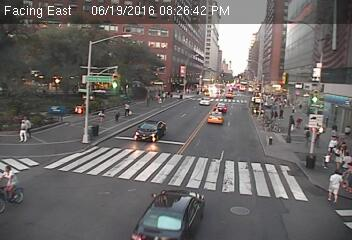neg: (242, 128, 261, 154), (68, 43, 80, 60), (274, 39, 285, 54), (266, 168, 277, 183), (214, 159, 224, 173), (241, 90, 251, 103), (232, 39, 241, 52), (266, 69, 275, 82), (309, 40, 318, 52), (180, 122, 188, 133), (153, 194, 161, 204), (183, 53, 191, 63), (139, 44, 147, 54), (143, 130, 150, 139), (96, 38, 103, 47), (217, 76, 223, 83)
pos: (322, 167, 348, 203), (12, 120, 29, 143), (324, 134, 341, 157), (330, 146, 347, 168), (338, 162, 351, 188), (119, 100, 134, 120), (19, 115, 33, 134), (337, 142, 351, 161), (340, 150, 351, 171), (95, 107, 107, 124), (320, 151, 332, 166), (276, 107, 286, 120), (294, 115, 304, 128), (330, 123, 339, 135), (270, 110, 278, 120), (343, 124, 350, 134), (273, 108, 280, 118)
